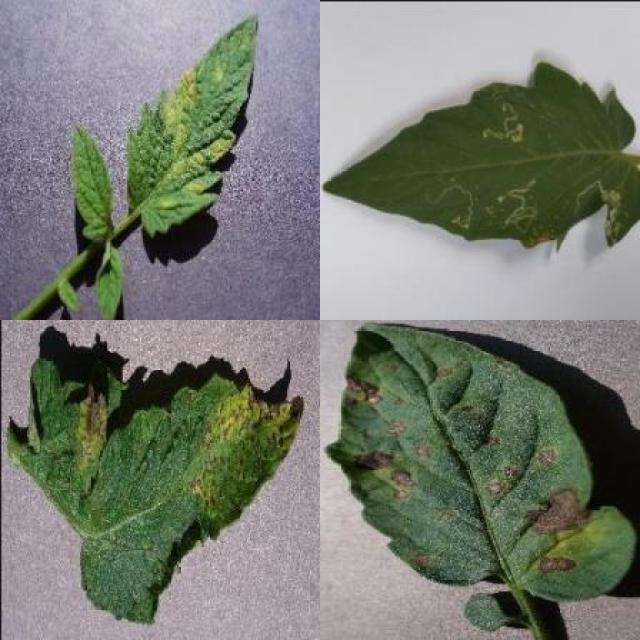Early Blight: (328, 322, 638, 598)
Healthy: (71, 120, 115, 241), (96, 247, 124, 320)
Leaf Miner: (321, 63, 640, 250)
Leaf Mold: (128, 12, 258, 238)
Septoria: (27, 362, 304, 625)
